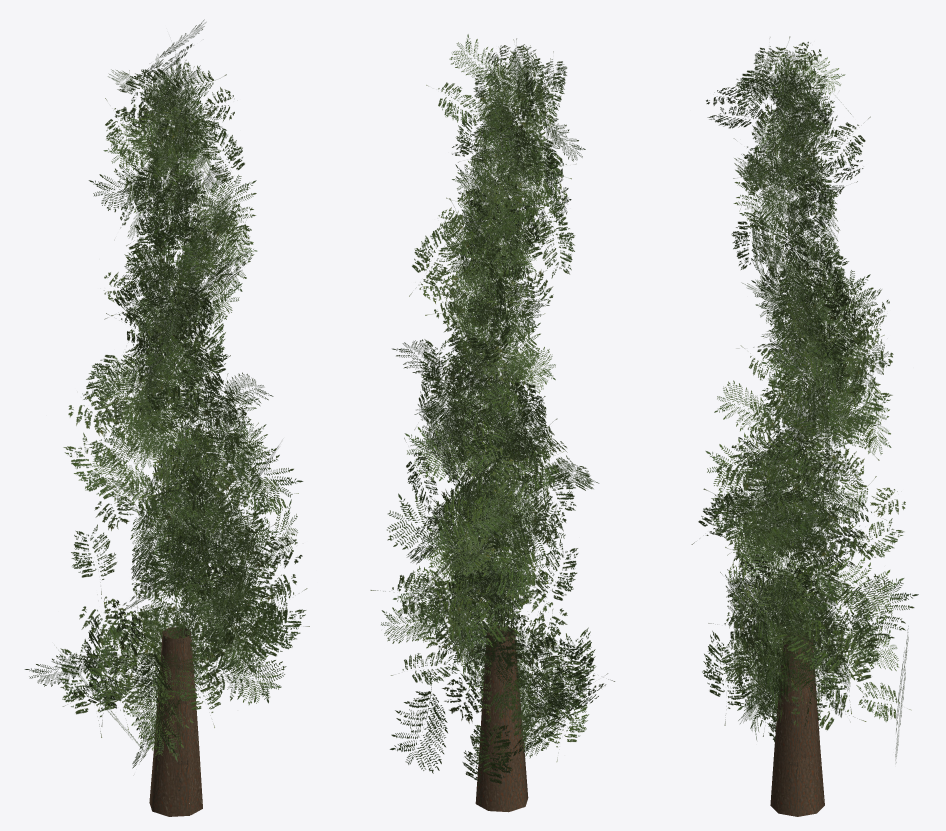
Rendered from cypress_3.glb.
3 renders of one model, left to right at view 1: azimuth 30°, elevation 25°; view 2: azimuth 150°, elevation 25°; view 3: azimuth 270°, elevation 25°, orthographic.
Parts seen in each view (by area): view 1: cypress; view 2: cypress; view 3: cypress.
Part boxes in pixels (box(x1,y1,x2,y2)): cypress: box(24, 19, 309, 816); cypress: box(370, 34, 614, 812); cypress: box(691, 36, 918, 816).
Size of the model in its own units: 3.27 by 9.49 by 2.93.
Materials: 2 (2 with a texture image).
